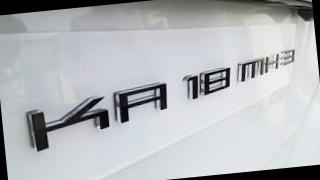plate: (13, 18, 320, 171)
